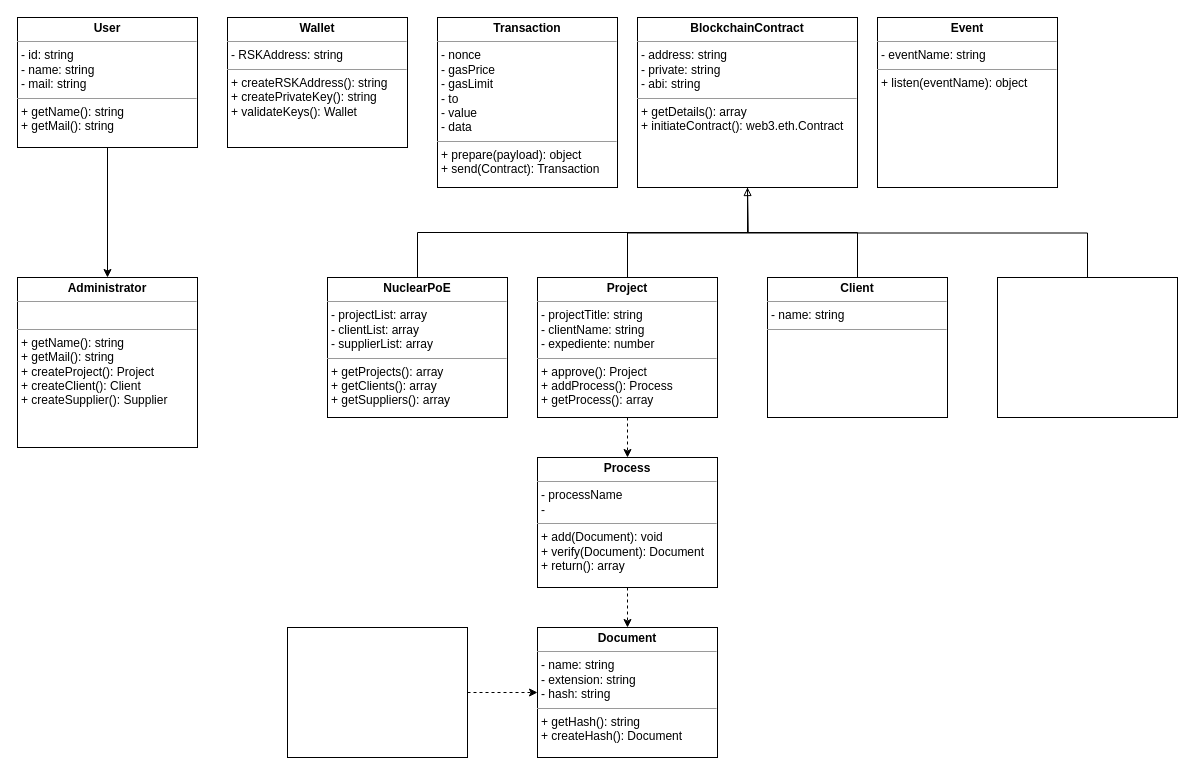
The diagram is 1195 pixels wide and 775 high, and some of its shapes have lost their labels. The centre of each missing label's shape, as x and y in pixels:
Storage - + upload() + download() + show(): (x=377, y=692)
Supplier - name: string: (x=1087, y=347)
